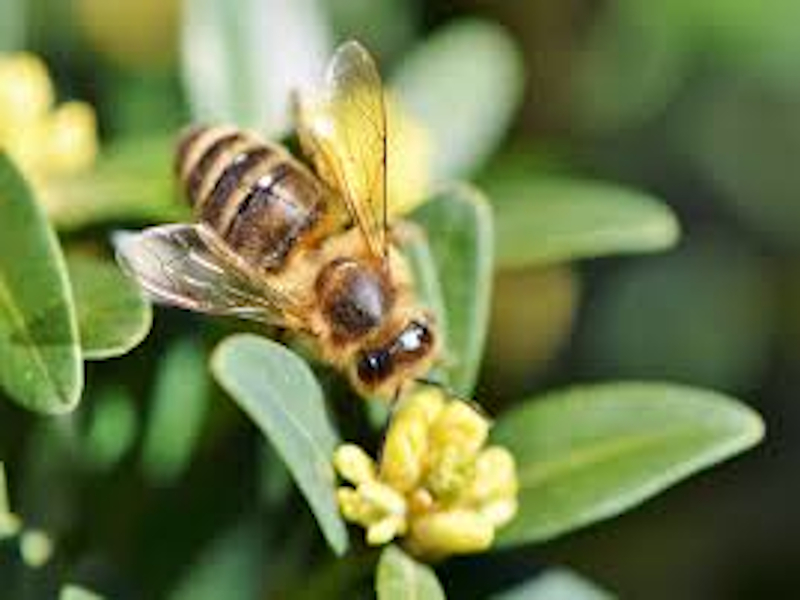abeja: (119, 40, 475, 433)
